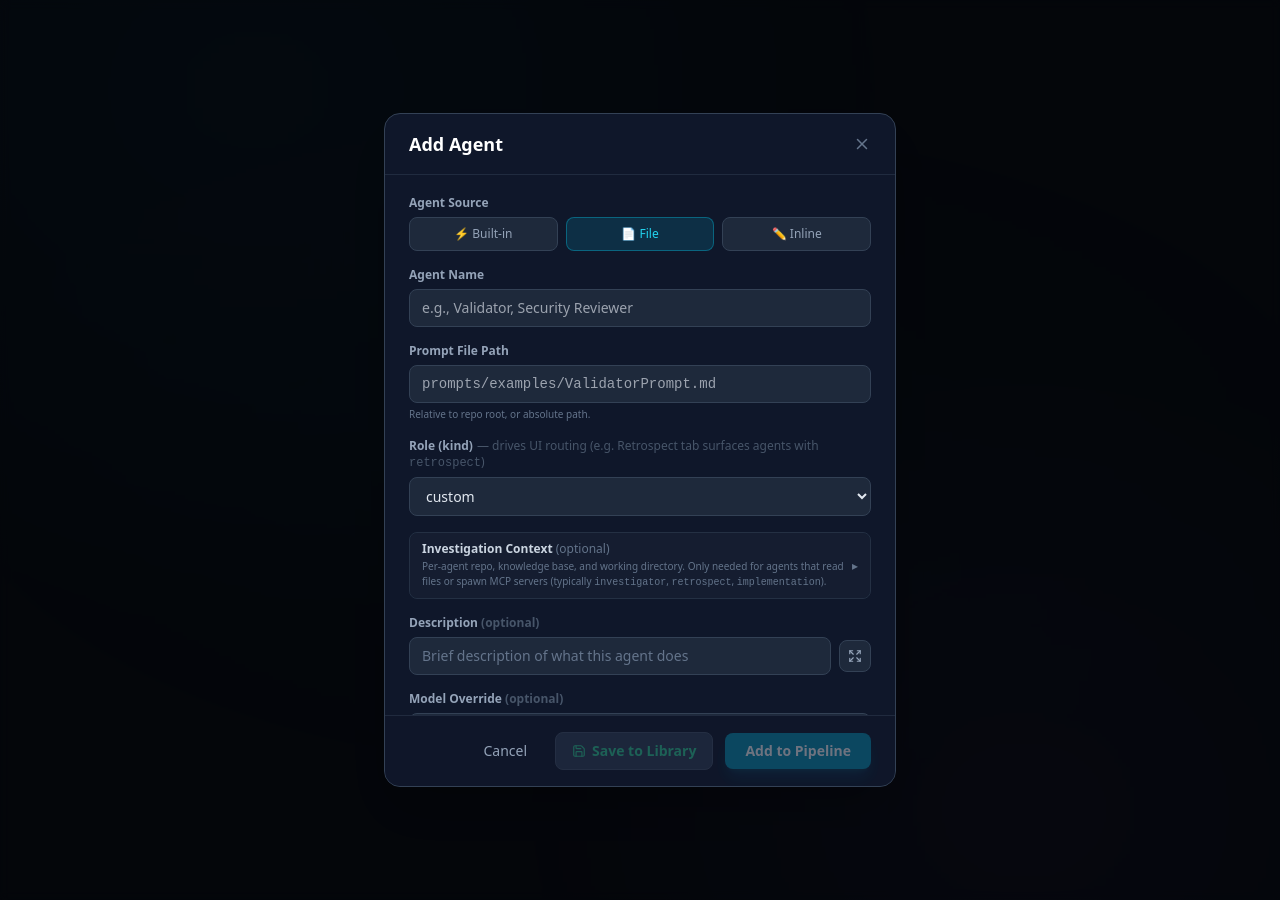
AgentModal — source switching › switches to inline source and shows the system prompt textarea
Click the button "✏️ Inline" at (797, 234), box top-left (722, 217), bottom-right (871, 251)
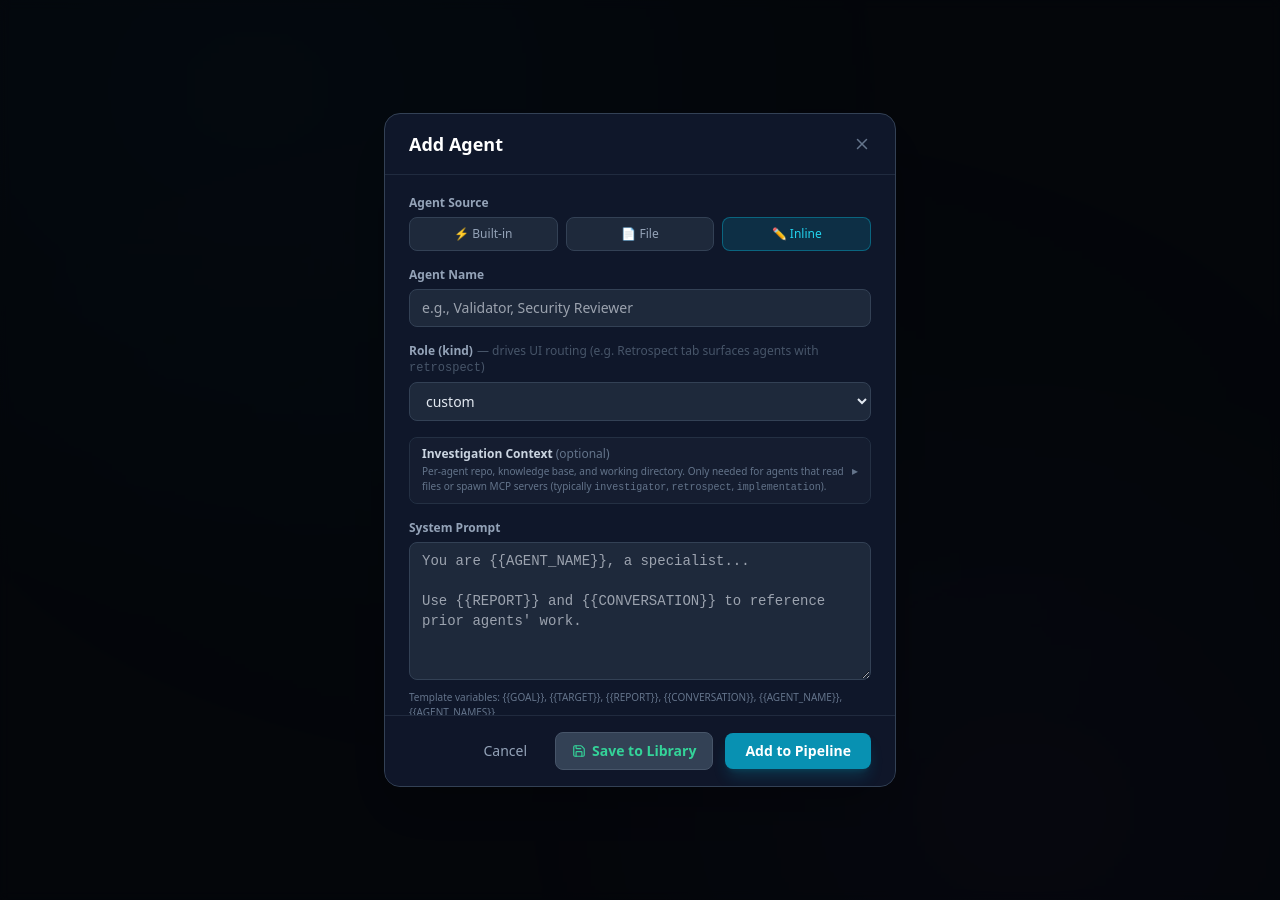
Check: the text "System Prompt" is shown, box top-left (409, 519), bottom-right (500, 536)
